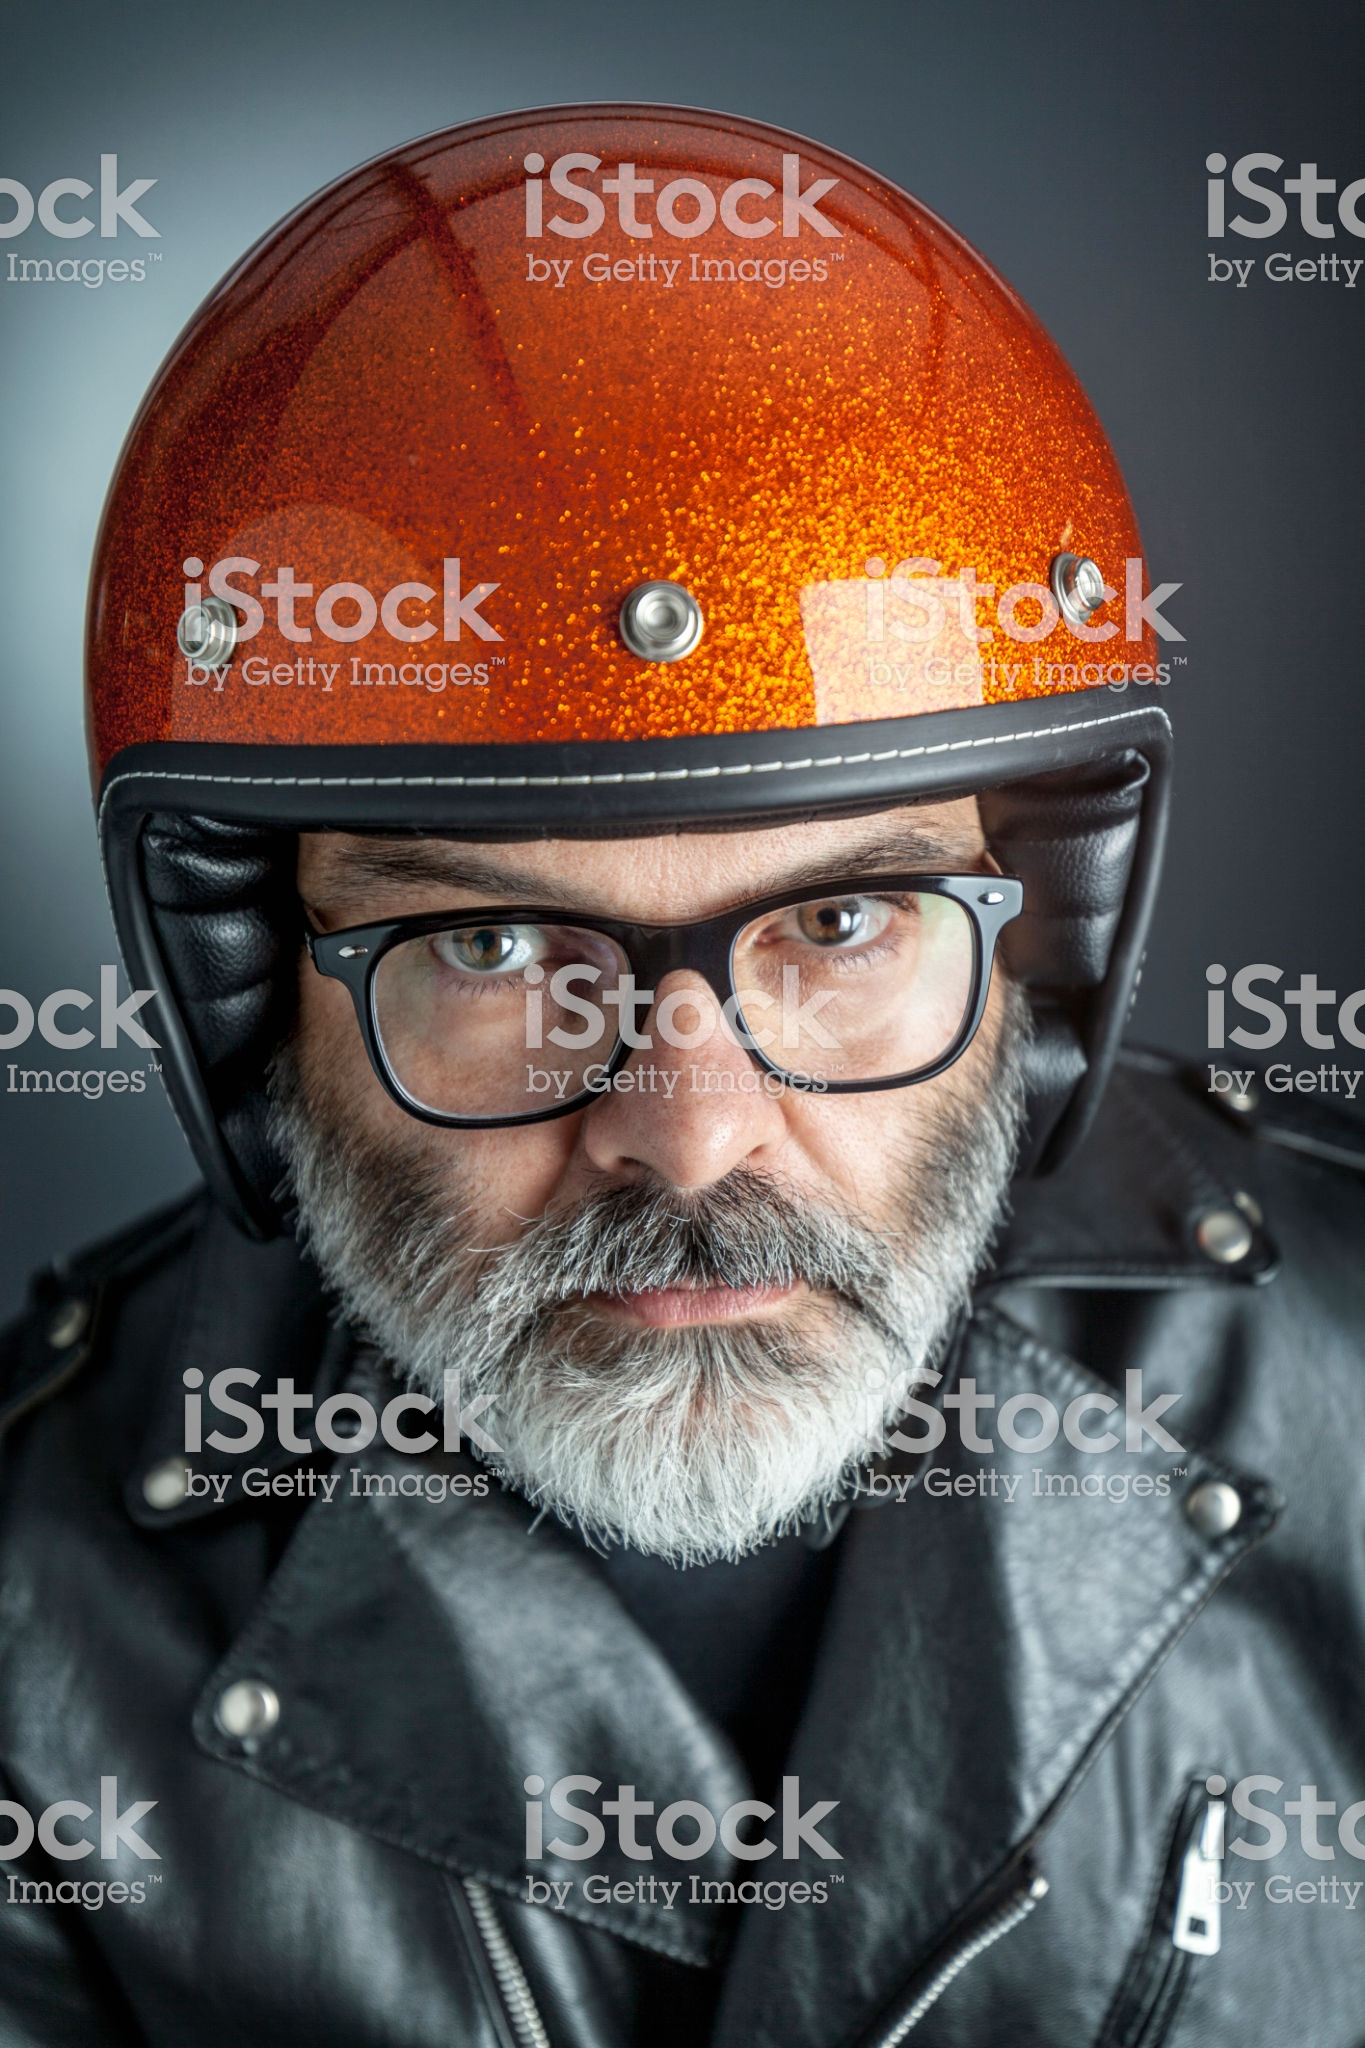helmet: (82, 134, 1176, 1002)
